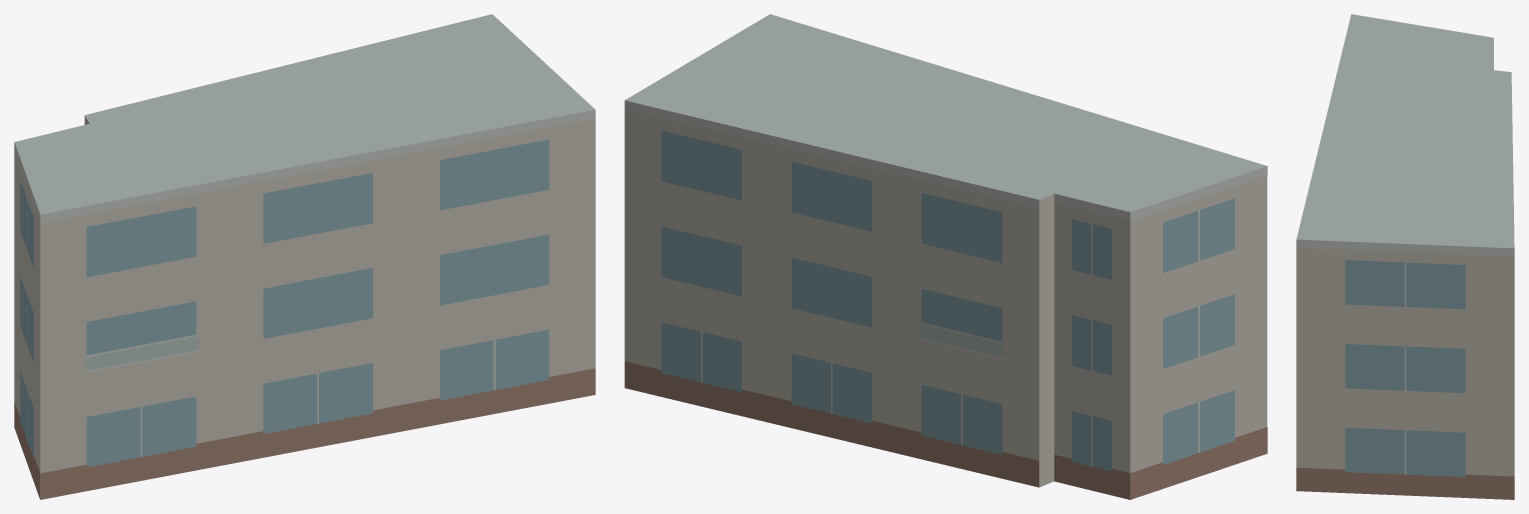
The model's file is survey-upis-32543355.glb.
The picture shows the model from 3 angles, left to right: view 1: azimuth 30°, elevation 25°; view 2: azimuth 150°, elevation 25°; view 3: azimuth 270°, elevation 25°; orthographic projection. The views are drawn at different scales.
Visible parts, largest first — view 1: survey-upis-32543355.tmp; view 2: survey-upis-32543355.tmp; view 3: survey-upis-32543355.tmp.
Part boxes in pixels (x1,y1,x2,y2): survey-upis-32543355.tmp: (14,14,595,499); survey-upis-32543355.tmp: (624,14,1267,499); survey-upis-32543355.tmp: (1296,14,1514,499).
Size of the model in its own units: 15.8 by 7.9 by 6.22.
